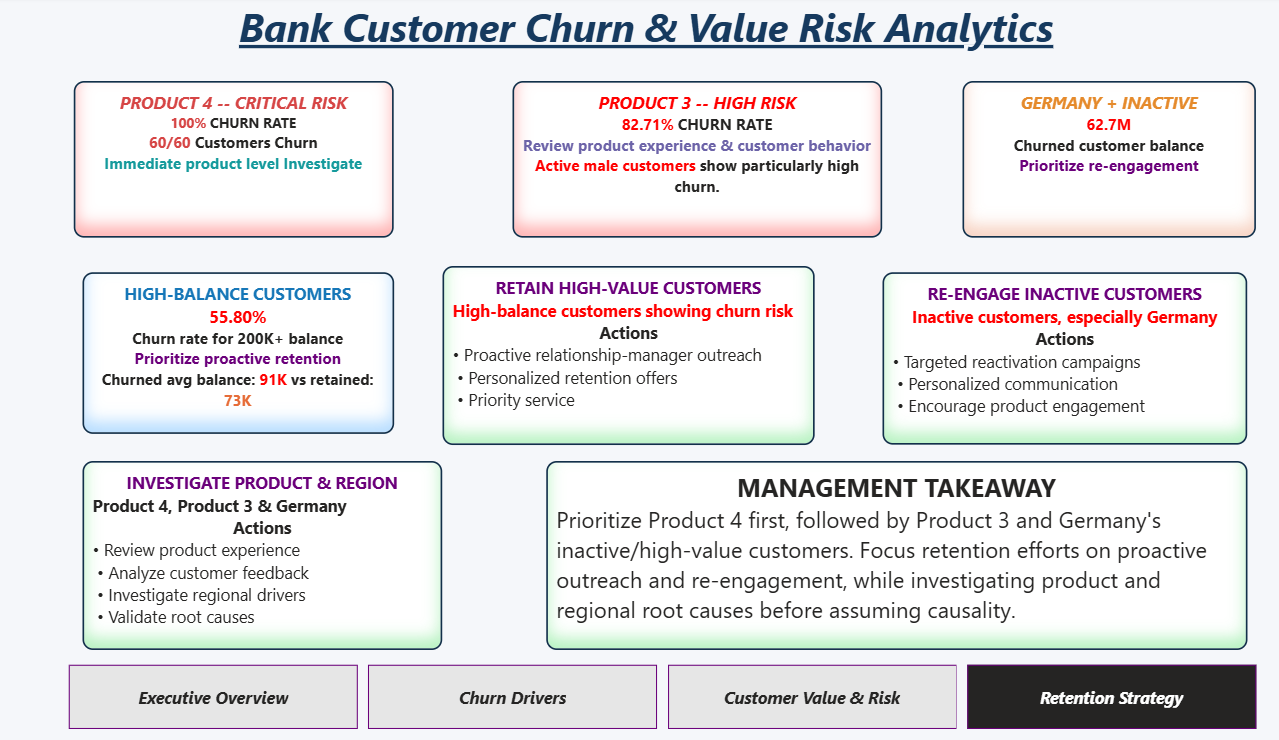

Layout of this report page (visuals, bound fields, positions):
{"tool":"powerbi","page":{"name":"Retention Strategy","canvas":[1280,720],"ordinal":3},"visuals":[{"type":"textbox","box":[80.8,82,308.8,150.8],"z":0},{"type":"textbox","box":[504.3,82,357.1,150.8],"z":1000},{"type":"textbox","title":"ffghgfgghh","box":[938.6,82,283.5,150.8],"z":2000},{"type":"textbox","box":[89.3,266.6,300.4,155.6],"z":3000},{"type":"textbox","box":[436.7,260.6,359.5,172.5],"z":4000},{"type":"textbox","box":[861.4,266.6,352.3,166.5],"z":5000},{"type":"textbox","box":[89.3,448.8,347.5,182.2],"z":6000},{"type":"textbox","box":[536.9,448.8,676.8,182.2],"z":7000},{"type":"textbox","box":[235.3,0,807.1,65.1],"z":8000},{"type":"pageNavigator","box":[76,645.4,1146.1,62.7],"z":8001}]}

Visuals, with their boxes in screenshot pixels (x1, y1, x2, y2), scaled from the page's 1280x720 canvas onto the 1279x740 screenshot:
textbox: Rect(81, 84, 389, 239)
textbox: Rect(504, 84, 861, 239)
"ffghgfgghh" textbox: Rect(938, 84, 1221, 239)
textbox: Rect(89, 274, 389, 434)
textbox: Rect(436, 268, 796, 445)
textbox: Rect(861, 274, 1213, 445)
textbox: Rect(89, 461, 436, 649)
textbox: Rect(536, 461, 1213, 649)
textbox: Rect(235, 0, 1042, 67)
pageNavigator: Rect(76, 663, 1221, 728)
